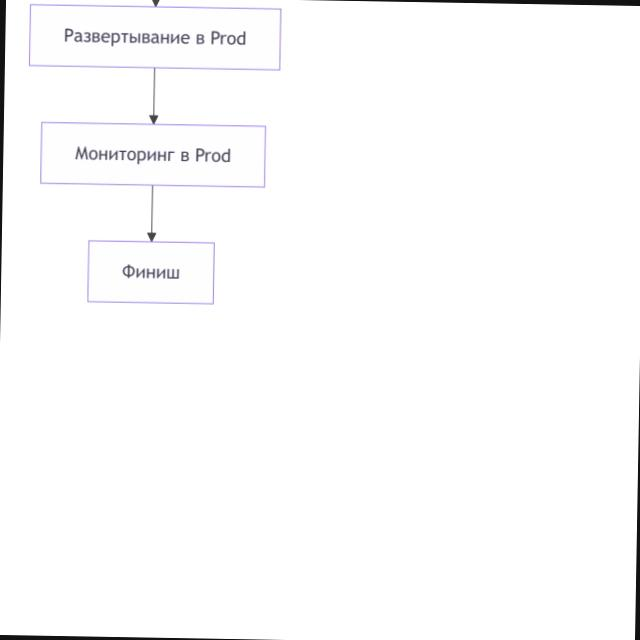rectangle: (29, 4, 281, 70), (41, 123, 266, 187), (88, 241, 215, 305)
